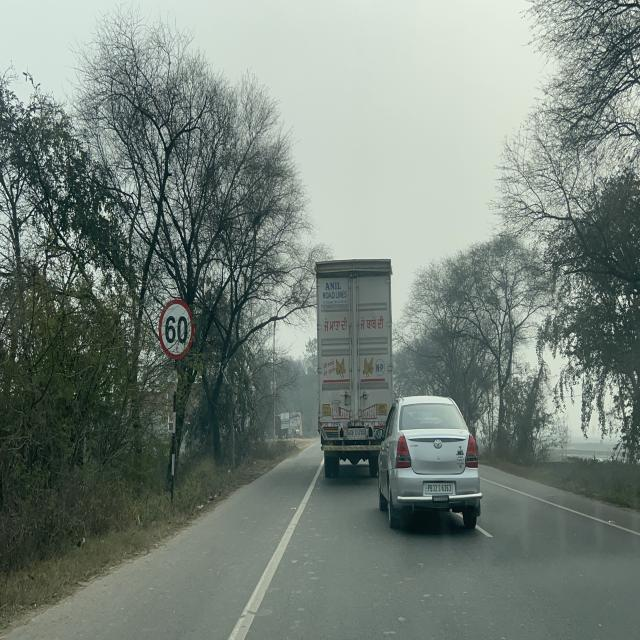SPEED_LIMIT_60: (158, 298, 195, 361)
